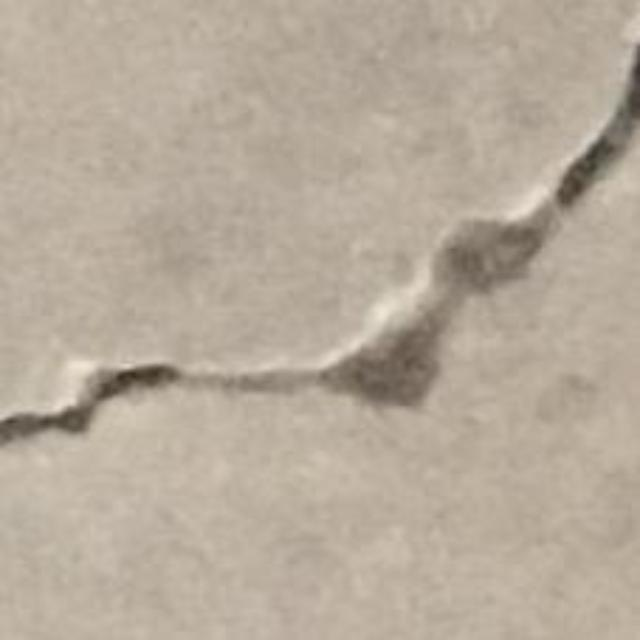crack: (0, 48, 639, 445)
